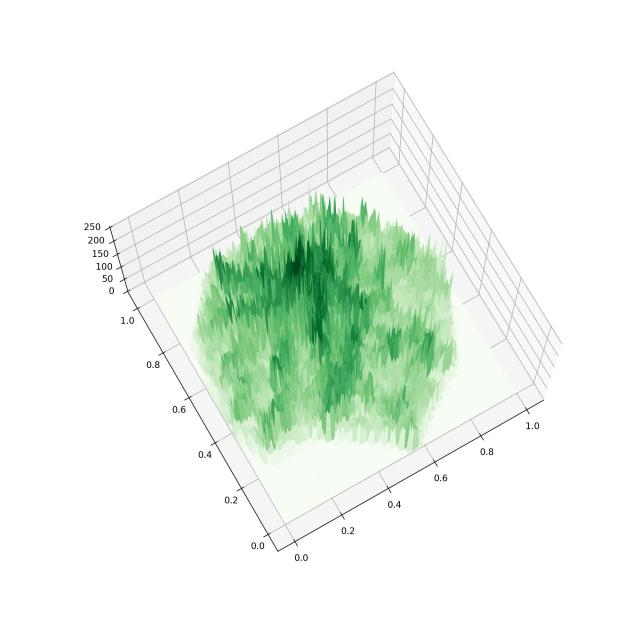spruce: (57, 55, 605, 608)
